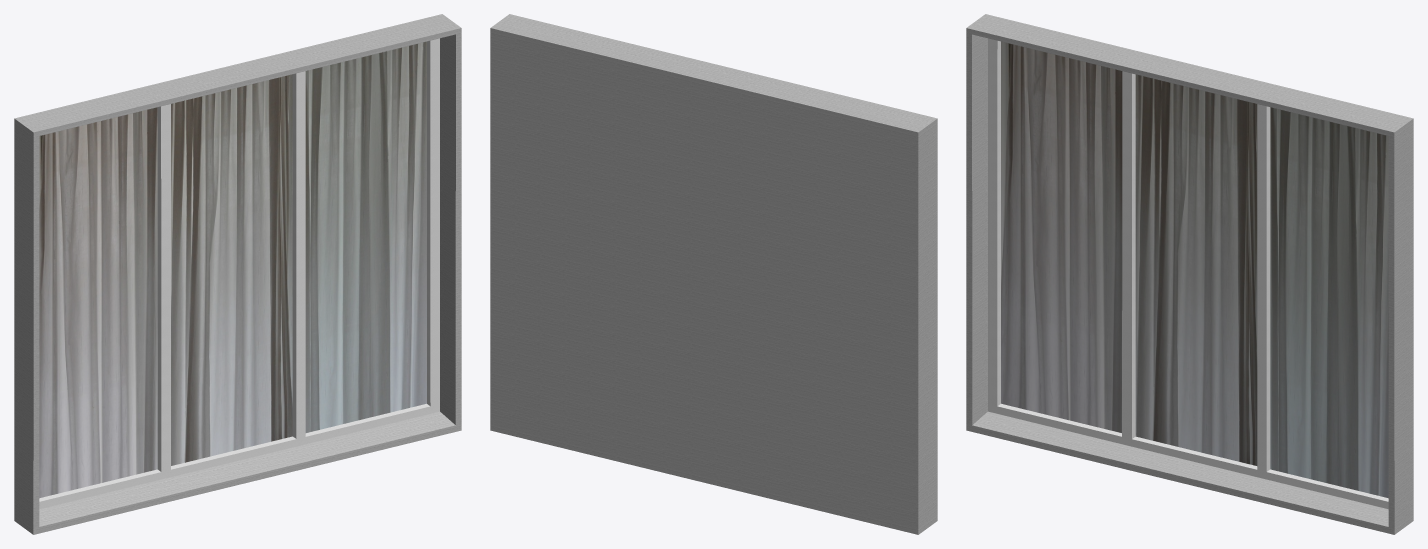
Rendered from 3FensterBDoor.glb.
3 views of the same model, side by side, from view 1: azimuth 30°, elevation 25°; view 2: azimuth 150°, elevation 25°; view 3: azimuth 330°, elevation 25° (orthographic).
Visible parts, largest first — view 1: Cube.005; view 2: Cube.005; view 3: Cube.005.
Boxes of the visible parts, x1,y1,x2,y2 form: Cube.005: (14,14,461,534); Cube.005: (490,14,937,534); Cube.005: (966,14,1413,534).
Size of the model in its own units: 7.18 by 6.45 by 0.5581.
3 materials, 3 textured.
